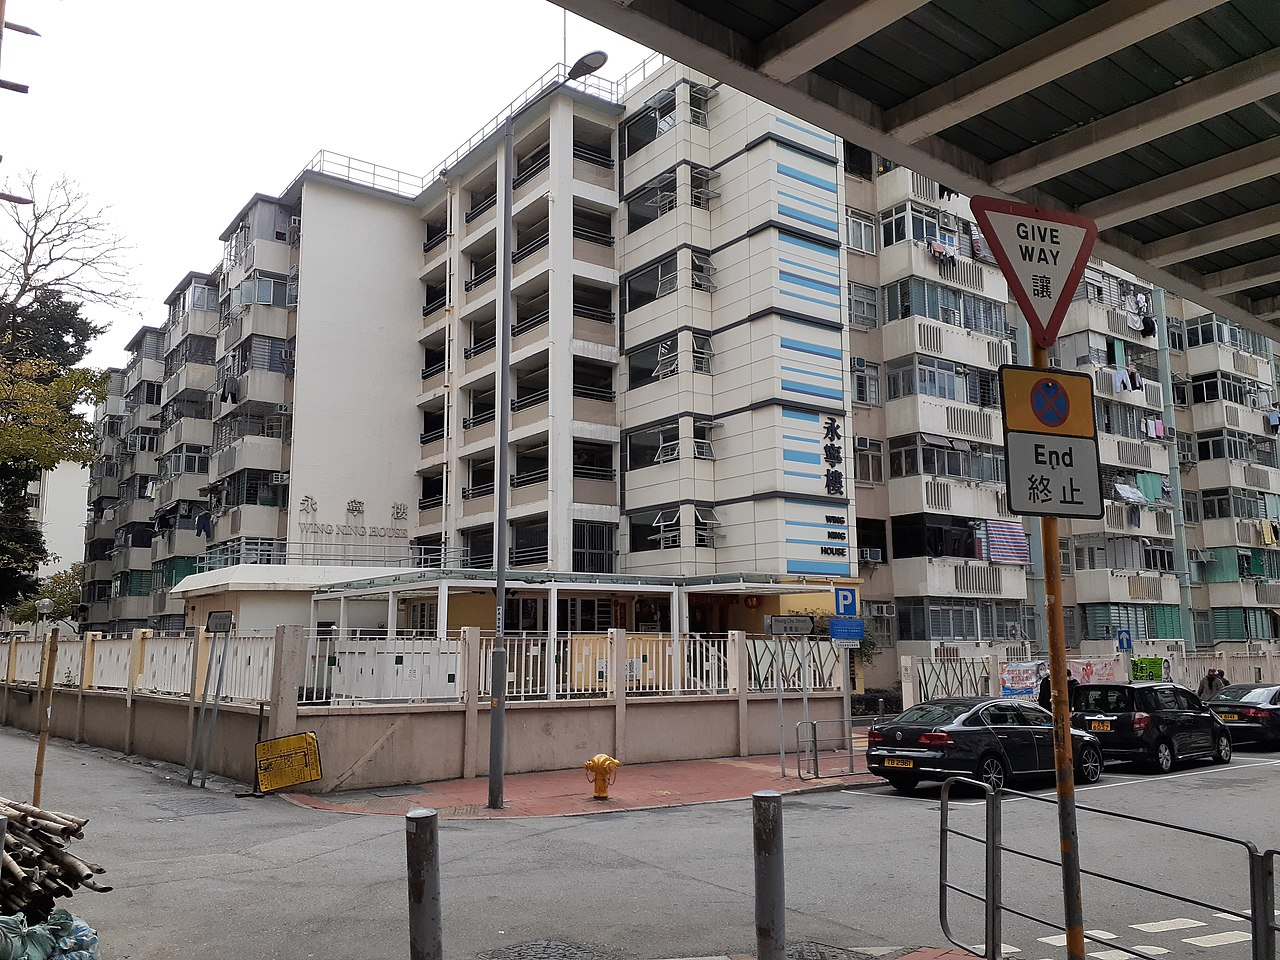End Of No Stopping: (1005, 372, 1112, 518)
Give Way: (969, 195, 1105, 353)
